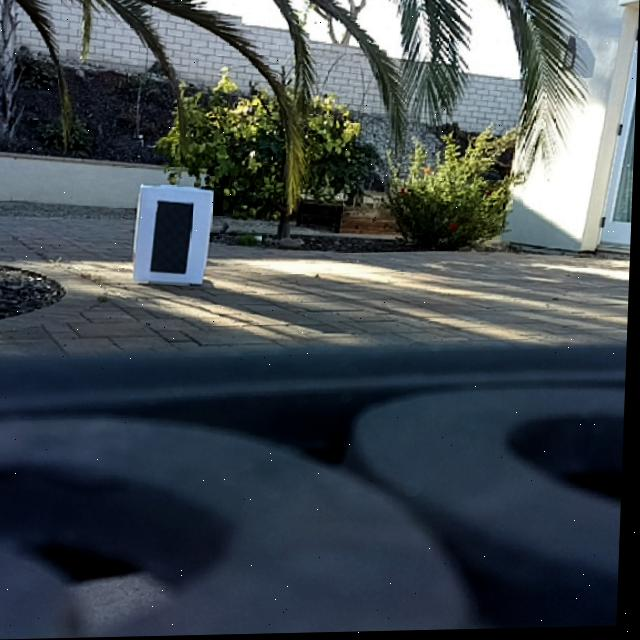led: (152, 198, 195, 277)
